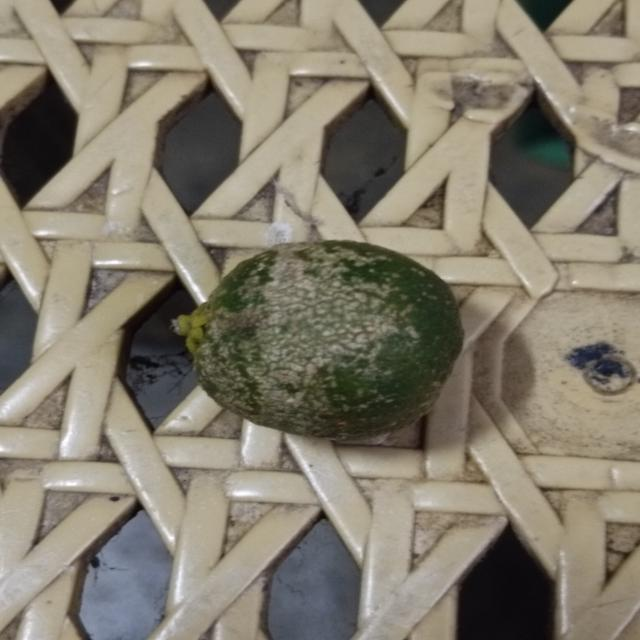thrips: (194, 237, 460, 435)
